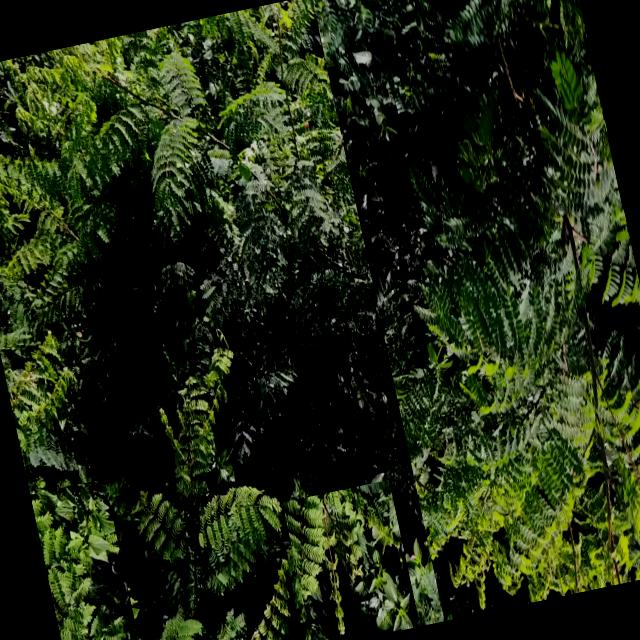Mysore-Thorn-Weed: (312, 0, 640, 620), (0, 0, 361, 402), (98, 348, 296, 640), (282, 479, 420, 640), (30, 478, 143, 640)
